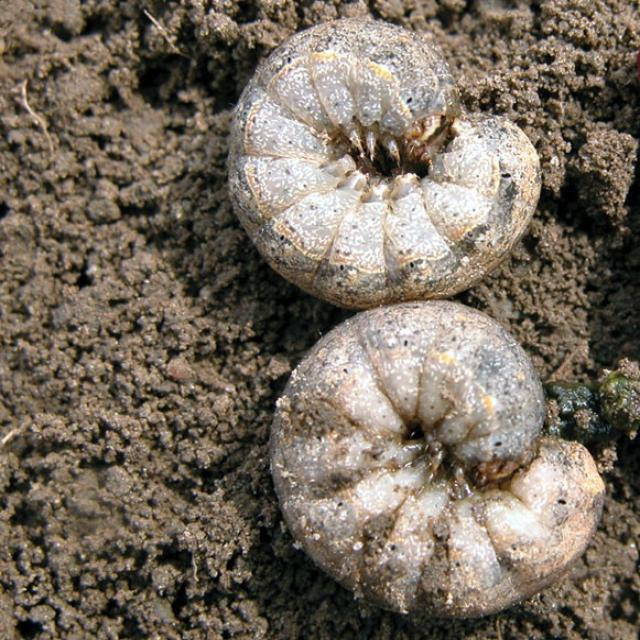Cutworm: (270, 308, 611, 618), (227, 20, 550, 304)
